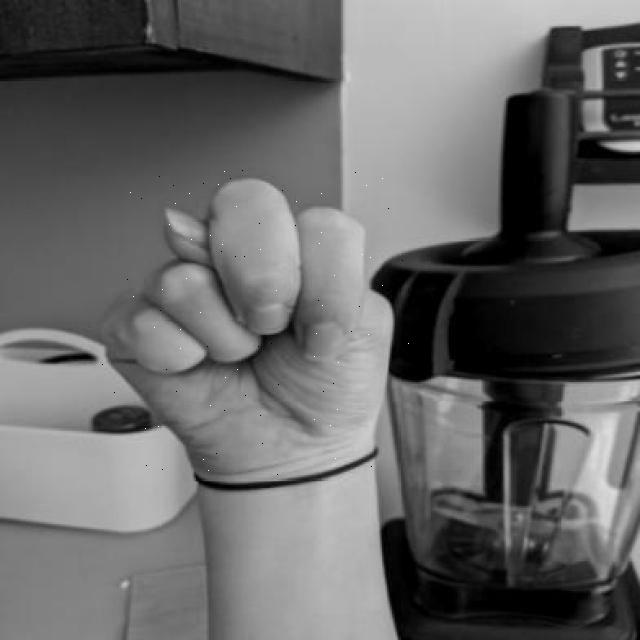N: (91, 168, 409, 475)
